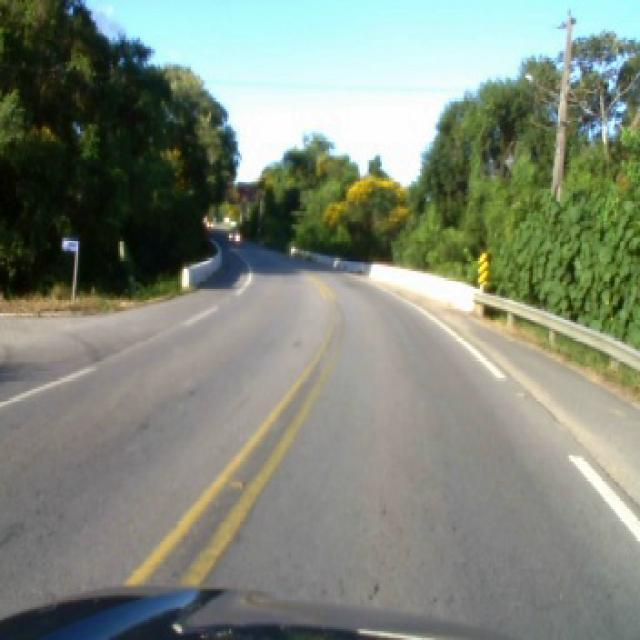Poth-hole: (227, 478, 244, 489)
